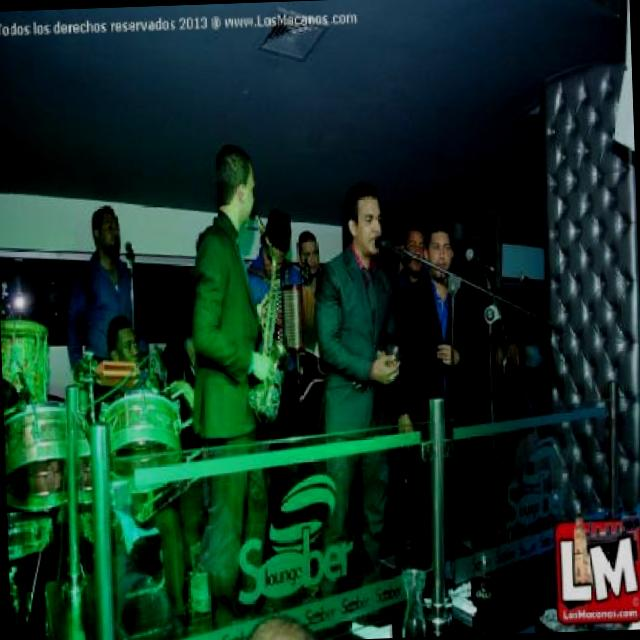Person: (306, 176, 416, 639), (184, 140, 285, 626), (394, 218, 486, 614), (85, 316, 189, 640), (241, 209, 310, 562), (59, 200, 138, 426), (292, 224, 338, 433), (380, 221, 430, 307)
